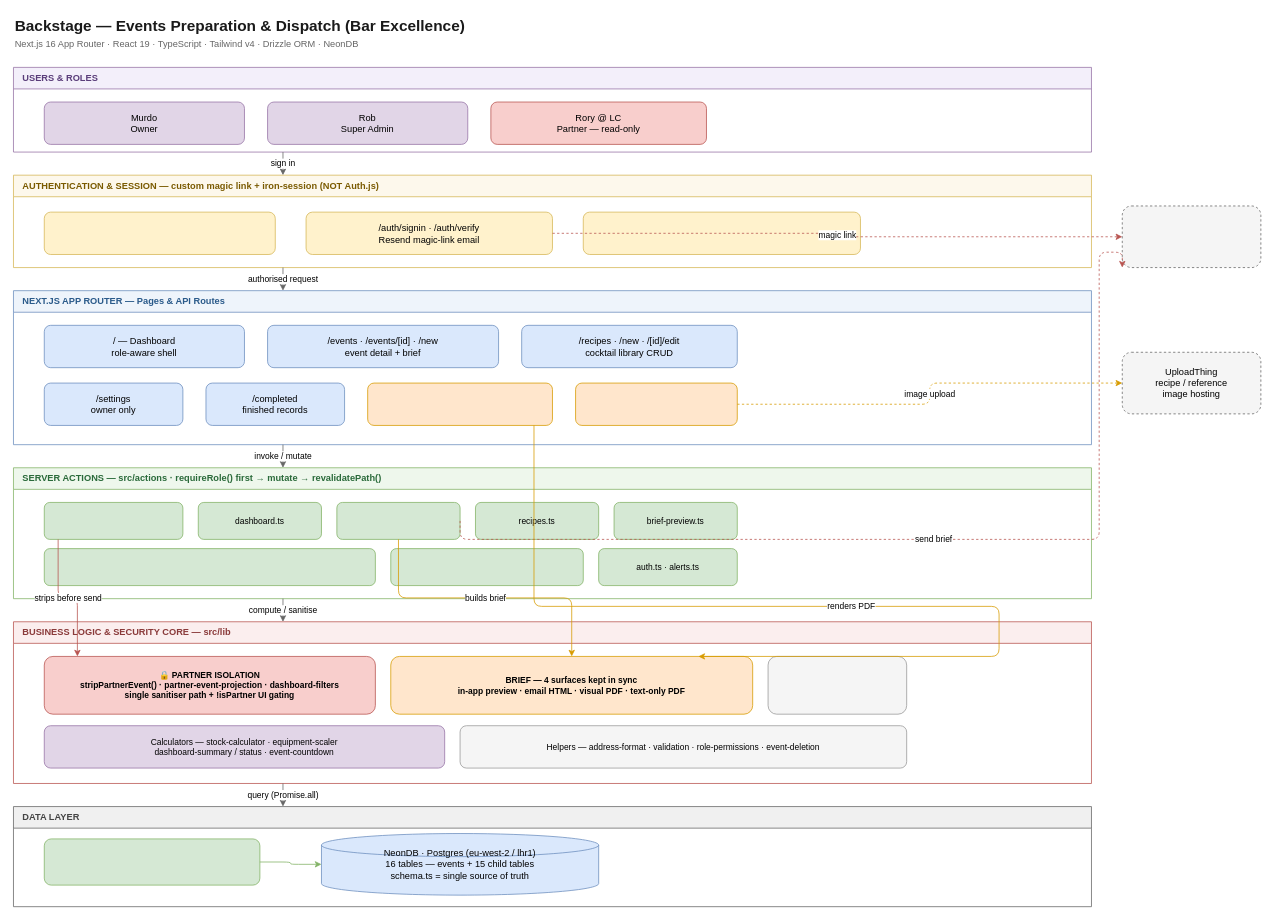
The diagram is 1274 pixels wide and 920 high, and some of its shapes have lost their labels. Here are the shapes that lost their labels. From the top down, the centre of each, then its label:
(x=159, y=232): proxy.ts route guard / redirect
(x=721, y=232): session.ts — getSession() / requireRole() first line of every server action
(x=1191, y=236): Resend transactional email (magic links + brief)
(x=459, y=403): /api/events/[id]/pdf brief PDF download
(x=656, y=403): /api/uploadthing image upload endpoint
(x=113, y=520): events.ts CRUD · delete
(x=398, y=520): send-to-lc.ts
(x=209, y=567): equipment · checklists · event-cocktails · standard-notes
(x=486, y=567): lc-recipients · app-settings
(x=837, y=685): lc-email getFromEmail()
(x=152, y=861): Drizzle ORM neon-http (no transactions)
